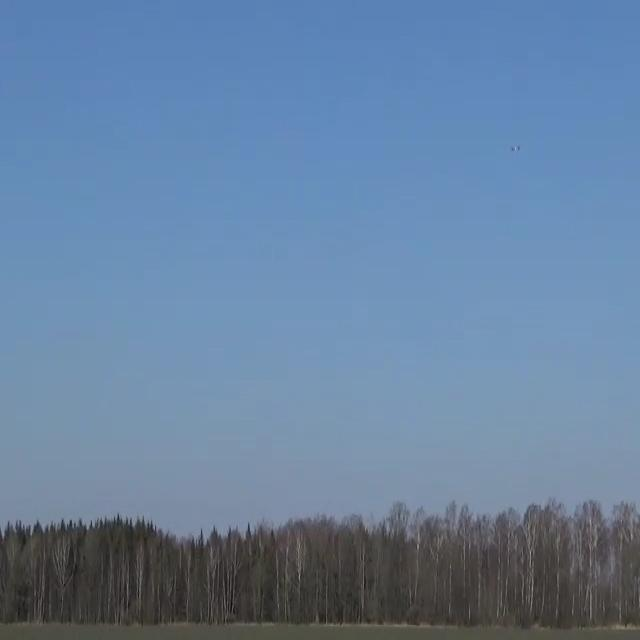drone: (510, 144, 520, 151)
